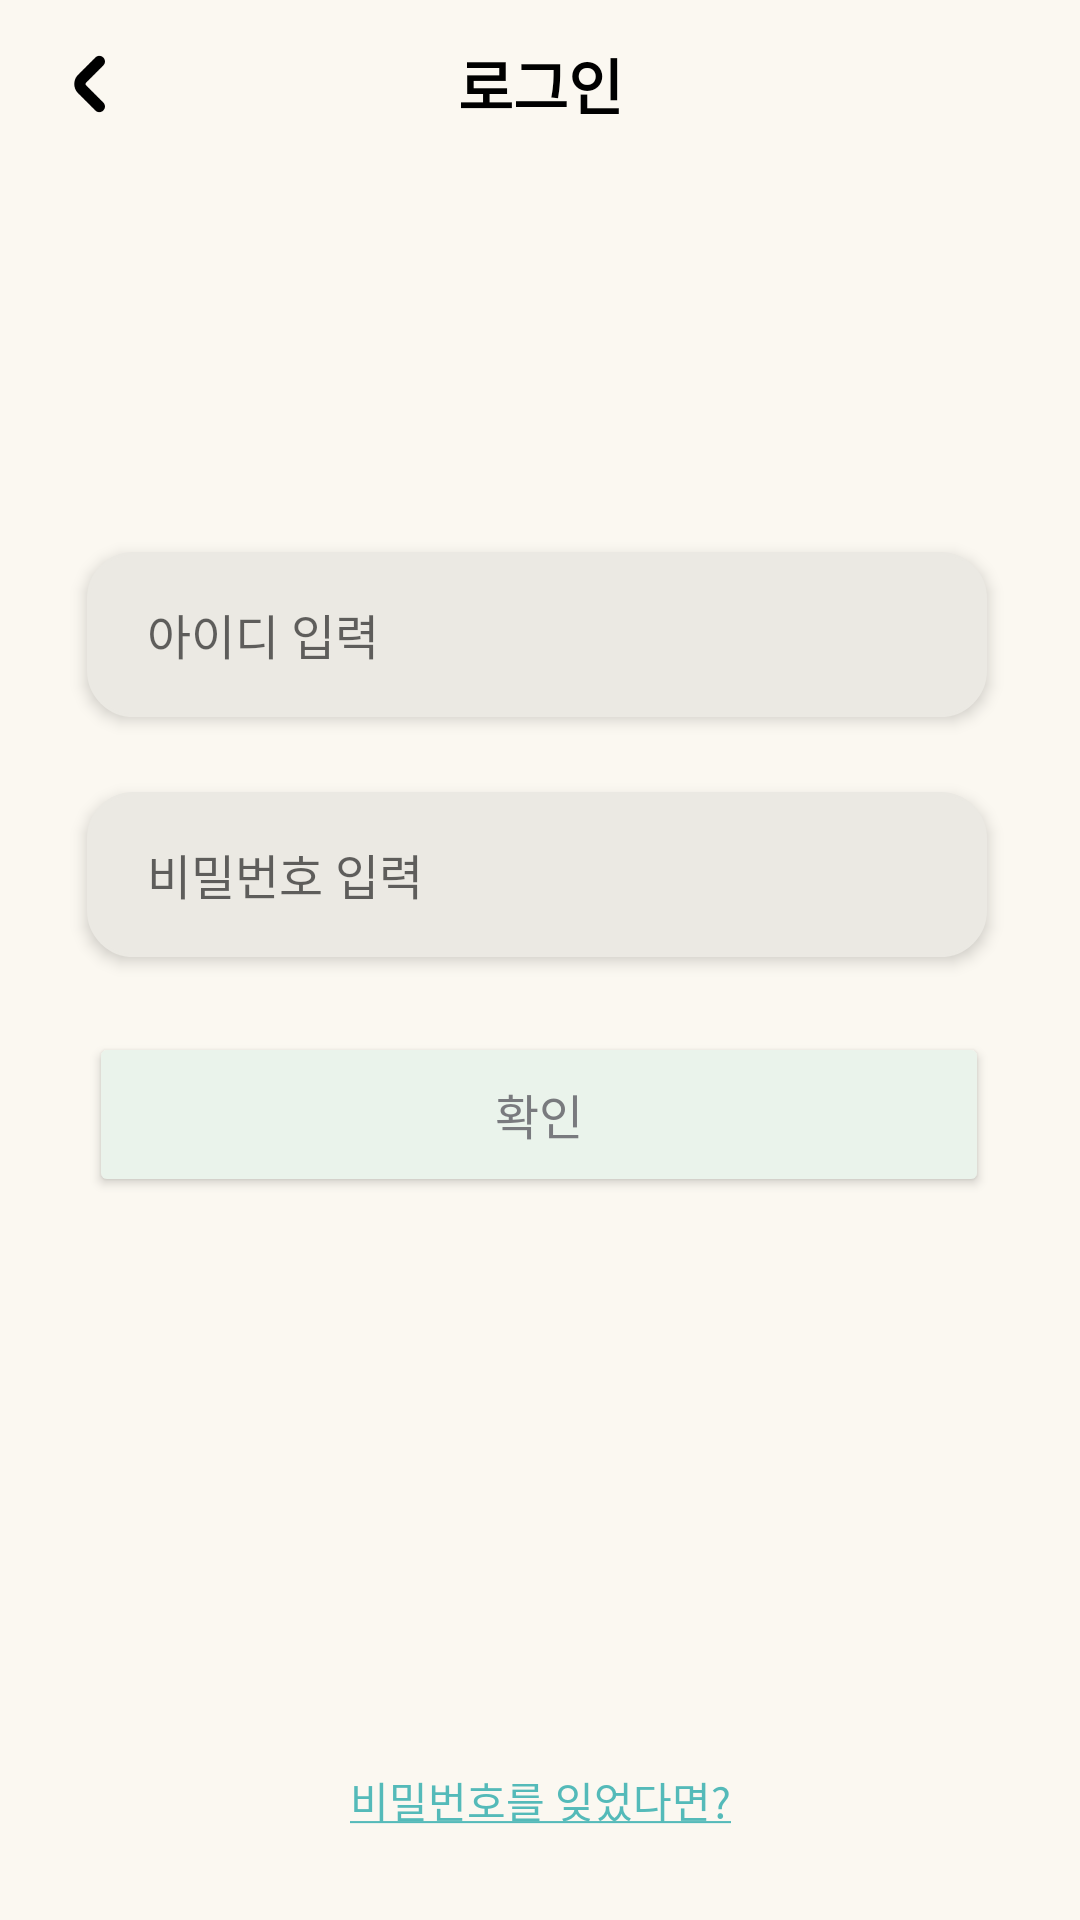

Where to tap for icons on this 1080 × 1920 app screen, as [x,y]:
back: [89,84]
